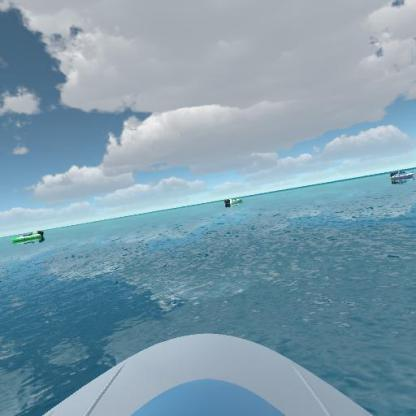usv0: (10, 225, 47, 248), (222, 193, 246, 209)
usv1: (389, 166, 415, 186)
